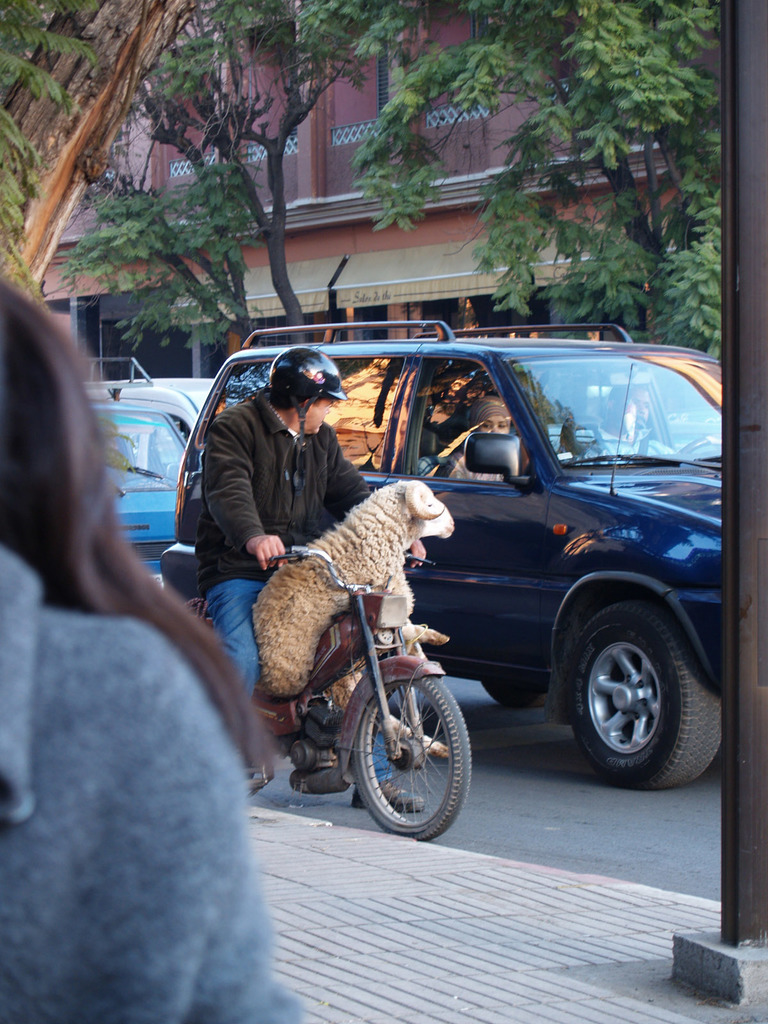Car: (161, 317, 722, 787), (89, 390, 185, 581), (78, 353, 216, 442)
